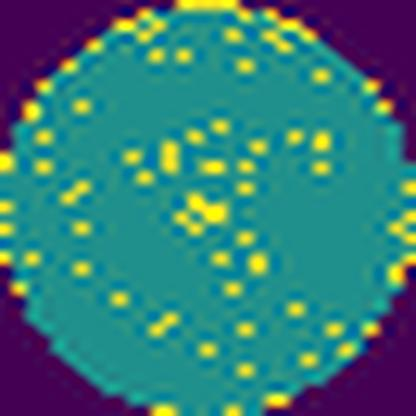Center: (172, 190, 231, 230)
